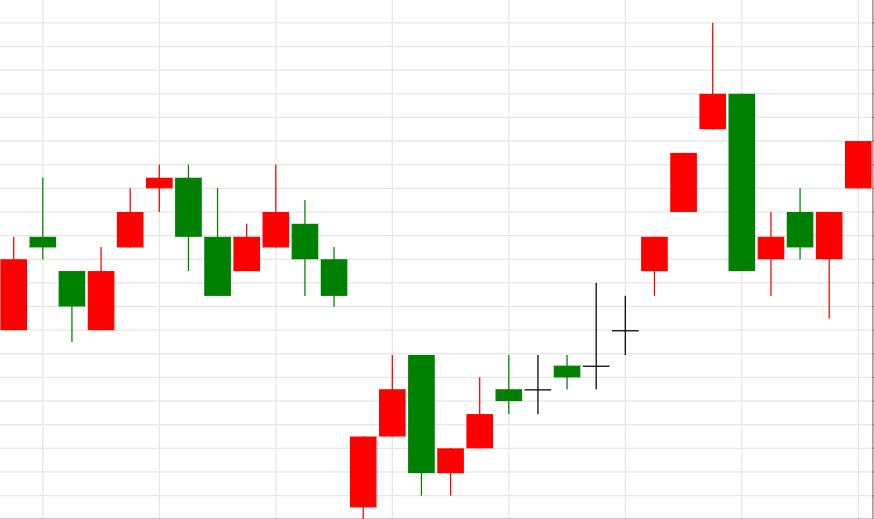shooting_star_fall: (584, 24, 725, 390)
